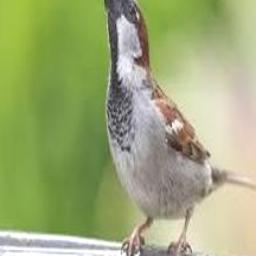Sparrow: (103, 0, 256, 256)
